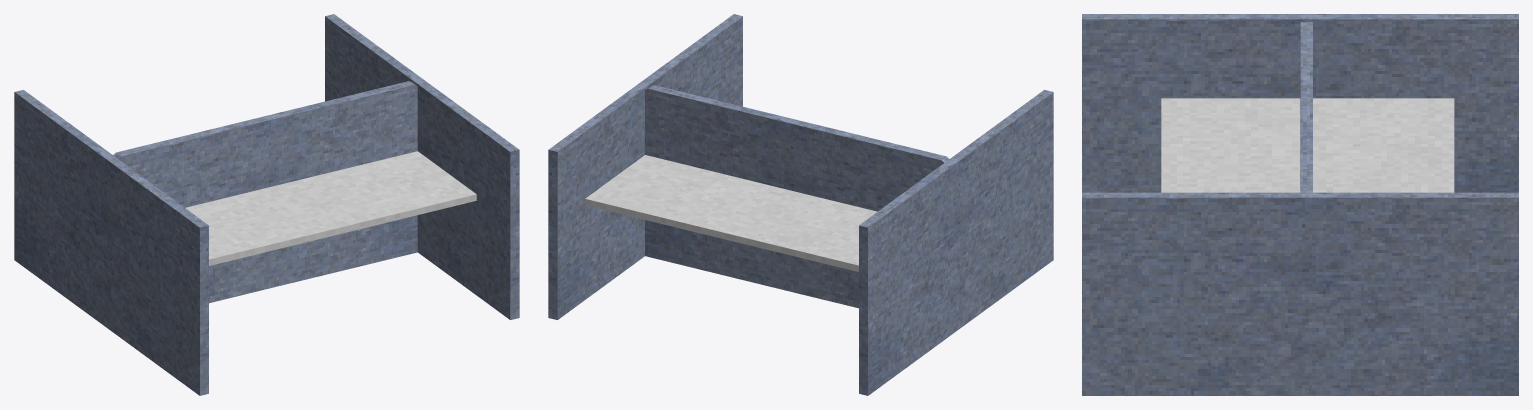
Rendered from divider_full_h_lue_desk.glb.
3 views of the same model, side by side, from view 1: azimuth 30°, elevation 25°; view 2: azimuth 150°, elevation 25°; view 3: azimuth 270°, elevation 25° (orthographic). The views are drawn at different scales.
Parts seen in each view (by area): view 1: divider_full_h_lue_desk; view 2: divider_full_h_lue_desk; view 3: divider_full_h_lue_desk.
Boxes of the visible parts, box(x1,y1,x2,y2) form: divider_full_h_lue_desk: box(14, 14, 519, 395); divider_full_h_lue_desk: box(548, 14, 1053, 395); divider_full_h_lue_desk: box(1082, 14, 1518, 395).
Size of the model in its own units: 2.99 by 1.5 by 3.
1 material, 1 textured.
